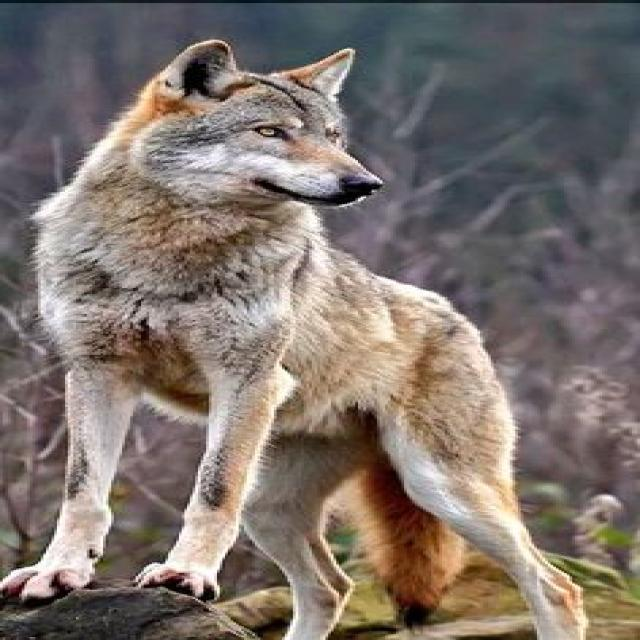Carnivorous: (0, 40, 588, 640)
